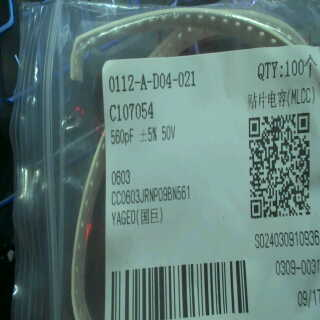560pF: (110, 125, 138, 147)
